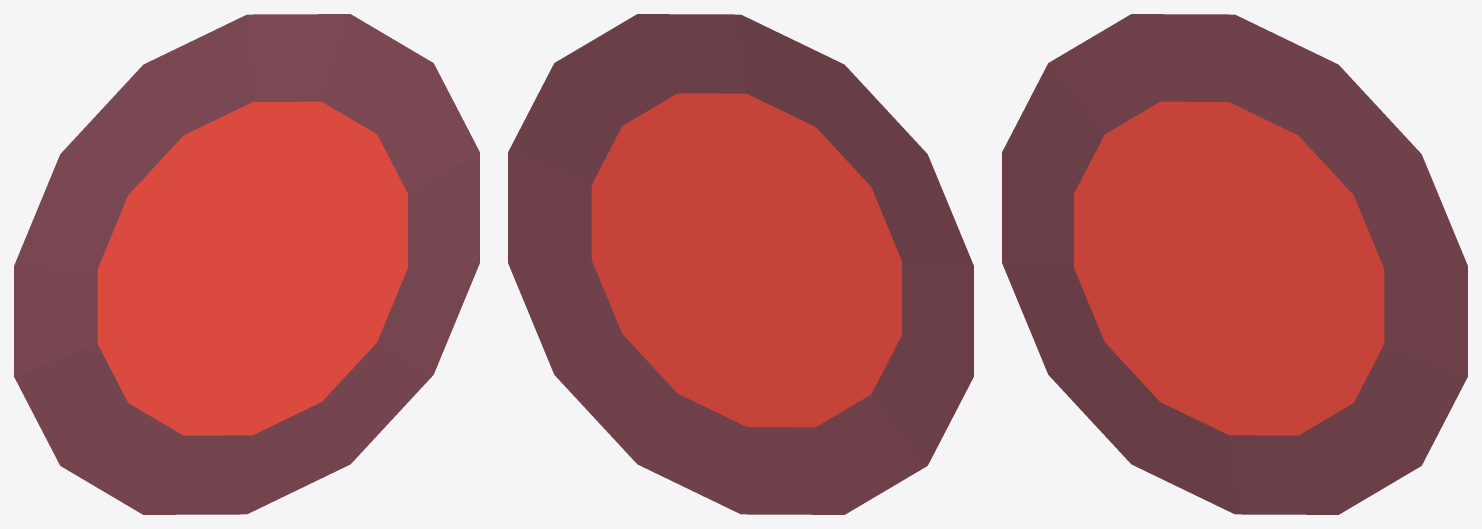
The model's file is tl_fx_login_sun_v01.glb.
3 renders of one model, left to right at view 1: azimuth 30°, elevation 25°; view 2: azimuth 150°, elevation 25°; view 3: azimuth 330°, elevation 25°, orthographic.
Parts seen in each view (by area): view 1: tl_fx_login_sun_v01; view 2: tl_fx_login_sun_v01; view 3: tl_fx_login_sun_v01.
Part boxes in pixels (x1,y1,x2,y2): tl_fx_login_sun_v01: [14, 14, 479, 514]; tl_fx_login_sun_v01: [508, 14, 973, 514]; tl_fx_login_sun_v01: [1002, 14, 1467, 514].
Size of the model in its own units: 18.72 by 19.2 by 0.4.
